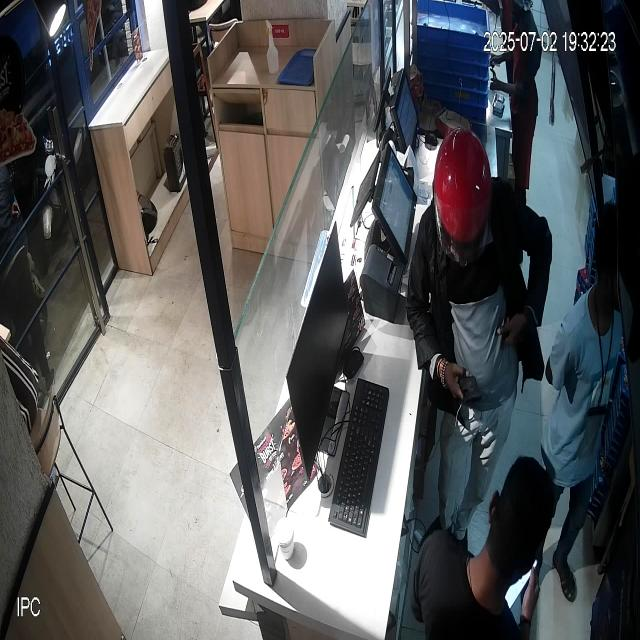helmet: (434, 126, 494, 268)
